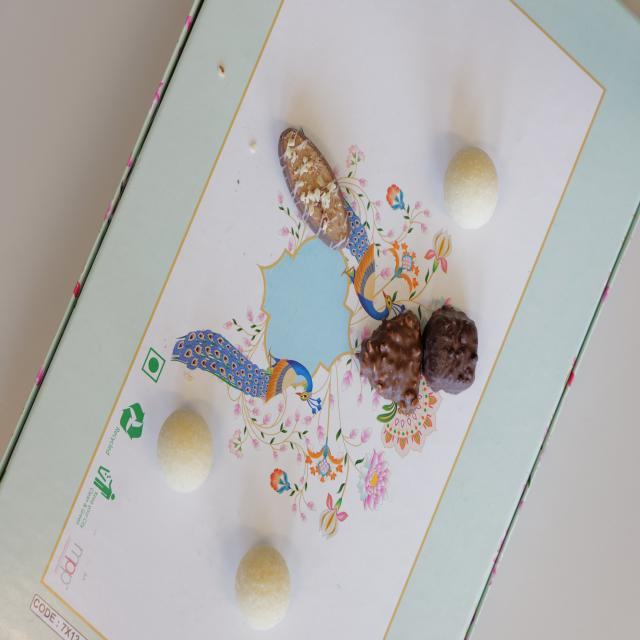Amandina: (277, 126, 352, 246)
Comtesse: (236, 544, 292, 634), (158, 406, 213, 494), (444, 146, 500, 230)
Tentation_noir: (422, 306, 479, 396)
Triangolo: (359, 310, 424, 414)
